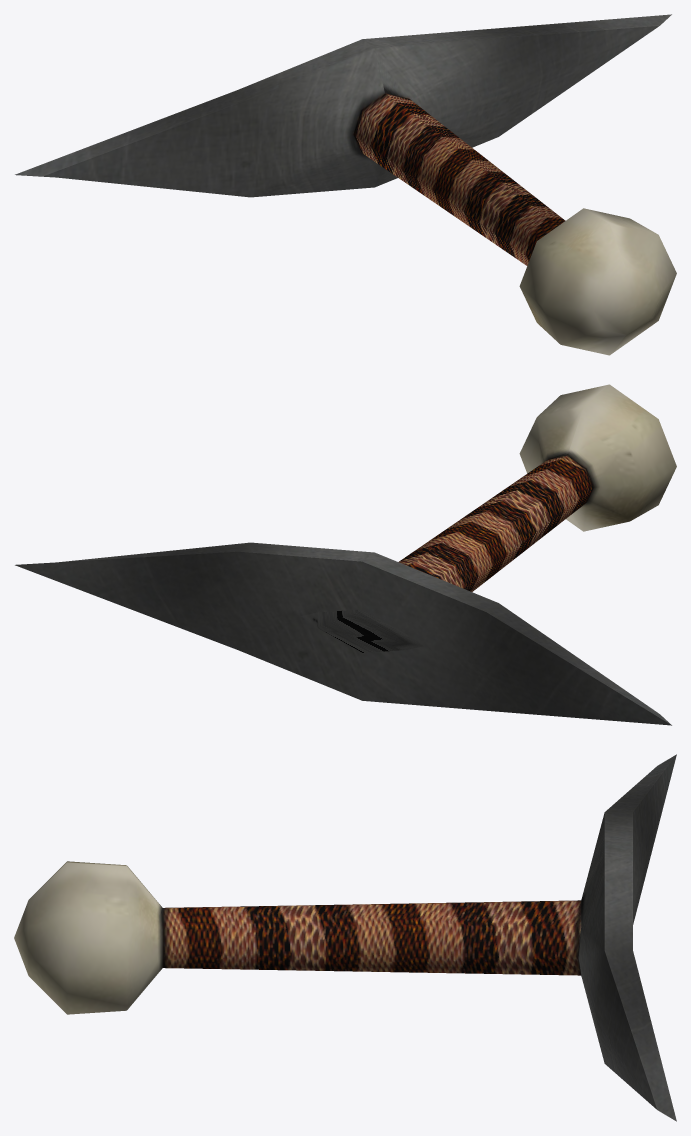
The model's file is SwordGrip.mtl.obj.
3 views of the same model, one above another, from view 1: azimuth 30°, elevation 25°; view 2: azimuth 150°, elevation 25°; view 3: azimuth 270°, elevation 25° (orthographic). The views are drawn at different scales.
Visible parts, largest first — view 1: Swords-OBJ; view 2: Swords-OBJ; view 3: Swords-OBJ.
Part boxes in pixels (box(x1,y1,x2,y2)): Swords-OBJ: box(15, 14, 676, 355); Swords-OBJ: box(15, 384, 676, 725); Swords-OBJ: box(14, 754, 676, 1121).
Bounding box in the file's own units: 0.3495 × 0.0706 × 0.2663.
1 material, 1 textured.
